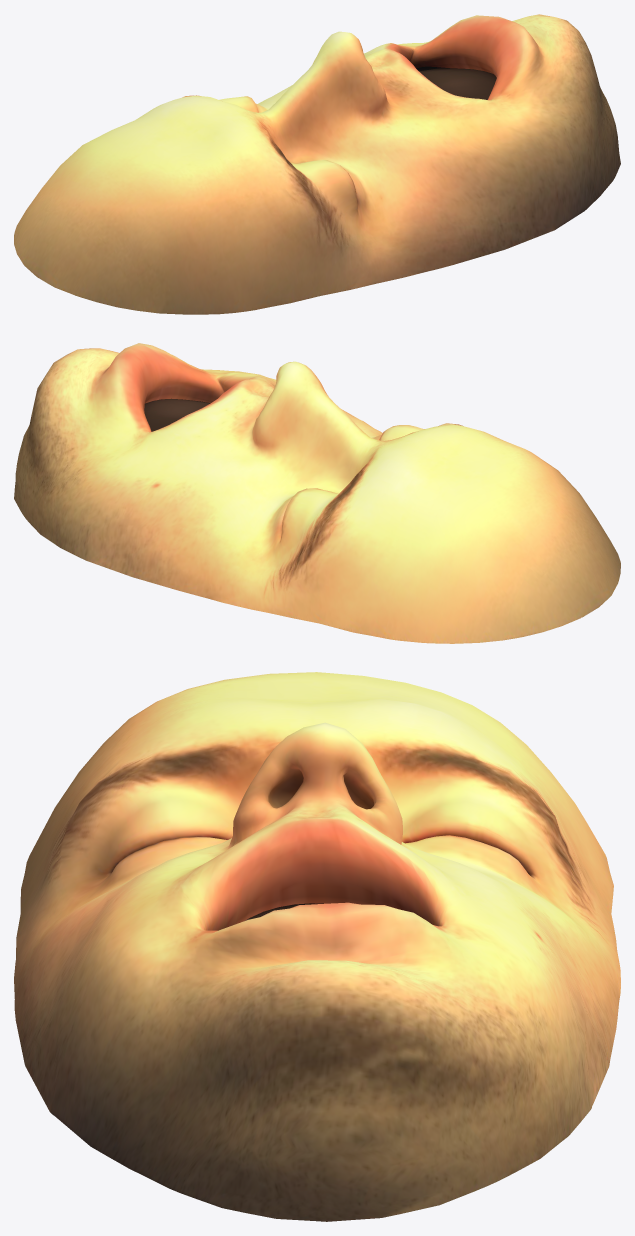
File: LeePerrySmoke.glb
The picture shows the model from 3 angles, top to bottom: view 1: azimuth 30°, elevation 25°; view 2: azimuth 150°, elevation 25°; view 3: azimuth 270°, elevation 25°; orthographic projection. The views are drawn at different scales.
Visible parts, largest first — view 1: LeePerrySmith; view 2: LeePerrySmith; view 3: LeePerrySmith.
Part boxes in pixels (x1,y1,x2,y2): LeePerrySmith: (14, 14, 620, 314); LeePerrySmith: (14, 343, 620, 643); LeePerrySmith: (14, 672, 620, 1221).
Bounding box in the file's own units: 11.3 × 3.2 × 6.23.
Materials: 1 (1 with a texture image).
